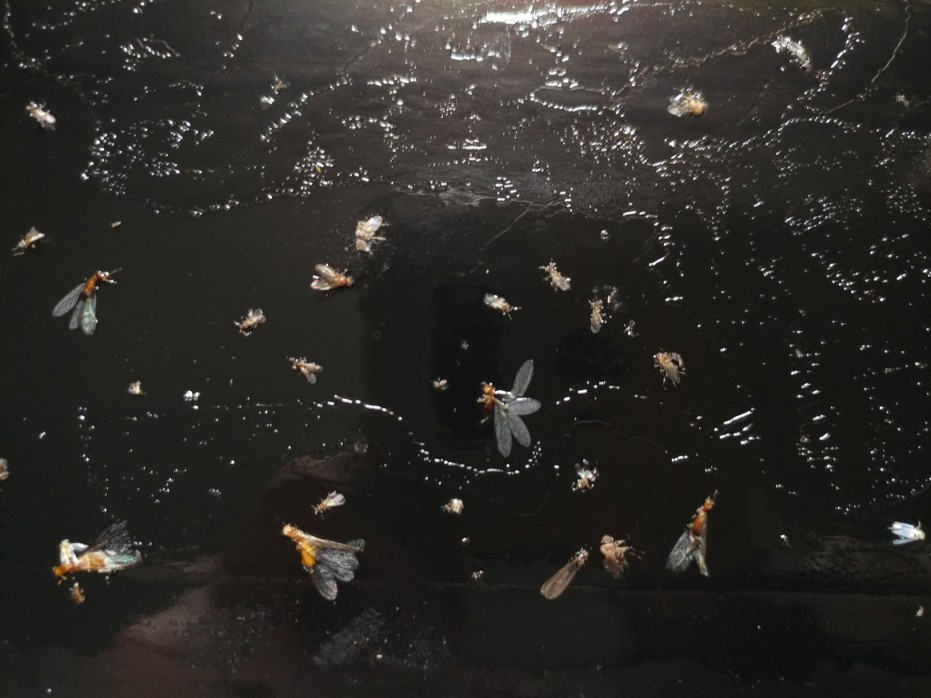flying termite: (271, 522, 371, 604), (660, 485, 725, 581), (474, 371, 547, 454)
